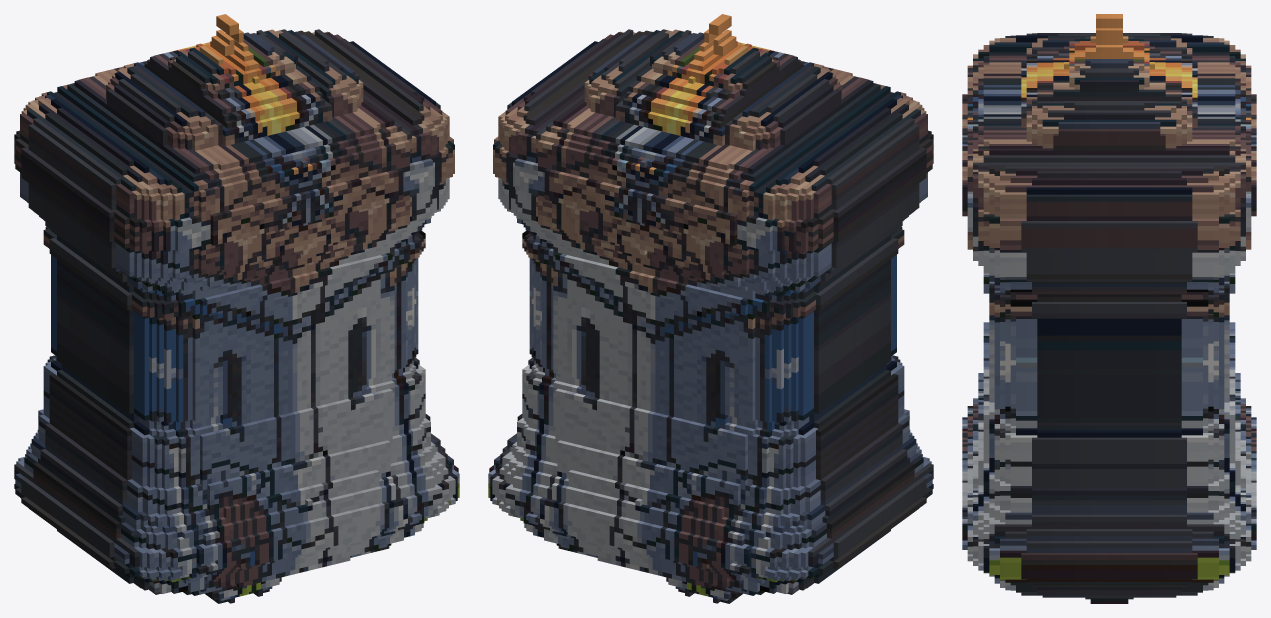
Rendered from pixel_tower.glb.
The picture shows the model from 3 angles, left to right: view 1: azimuth 30°, elevation 25°; view 2: azimuth 150°, elevation 25°; view 3: azimuth 270°, elevation 25°; orthographic projection.
Parts seen in each view (by area): view 1: VoxelObject; view 2: VoxelObject; view 3: VoxelObject.
Part boxes in pixels (bbox=[...]): VoxelObject: bbox=[14, 14, 459, 603]; VoxelObject: bbox=[488, 14, 933, 603]; VoxelObject: bbox=[962, 14, 1256, 603].
Size of the model in its own units: 4.7 by 7.5 by 3.5.
